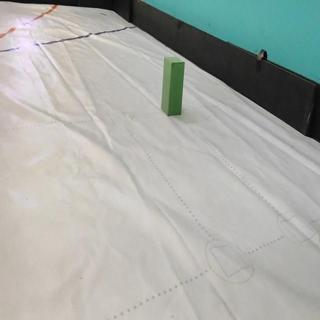greenbox: (161, 56, 186, 116)
